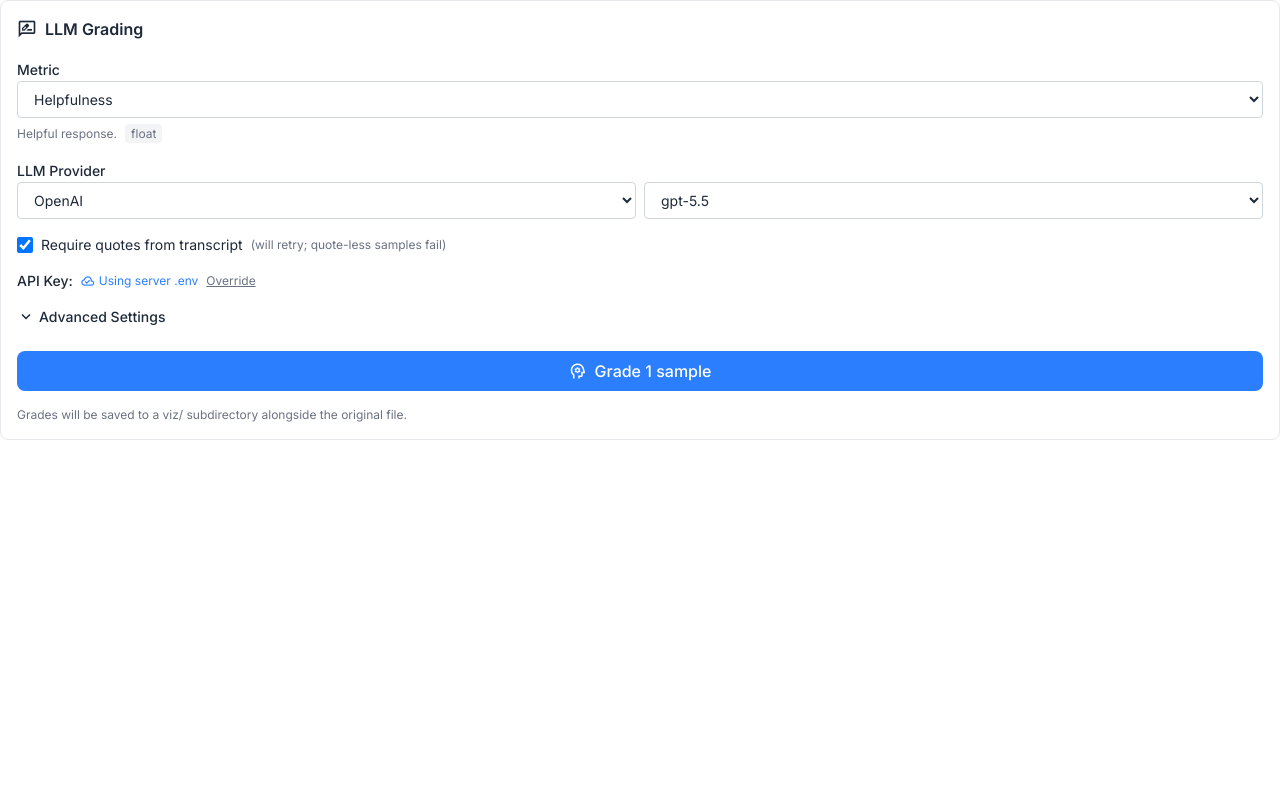
Test: GradingPanel › disables Grade and shows a hint while a new custom metric is missing name or prompt
This screenshot has width=1280, height=800.
Select "+ New Custom..." in the dropdown showing "Helpfulness" below "Metric": (640, 100) [17,81,1263,118]
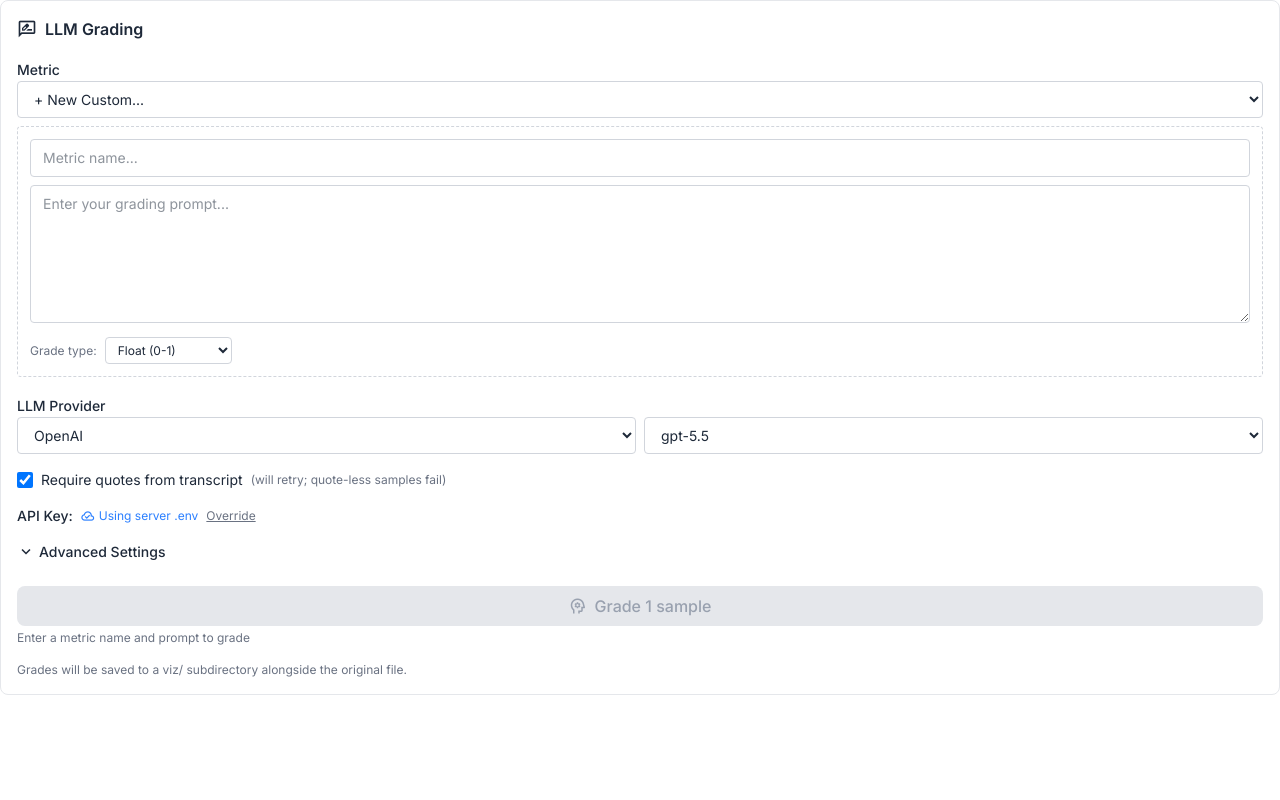
Check: the button "Grade 1 sample" is disabled, box [17,586,1263,626]
Check: the text "Enter a metric name and prompt to grade" is shown, box [17,630,250,645]
In the field with placeholder "Metric name...": (640, 158) [30,139,1250,177], type "My Metric"
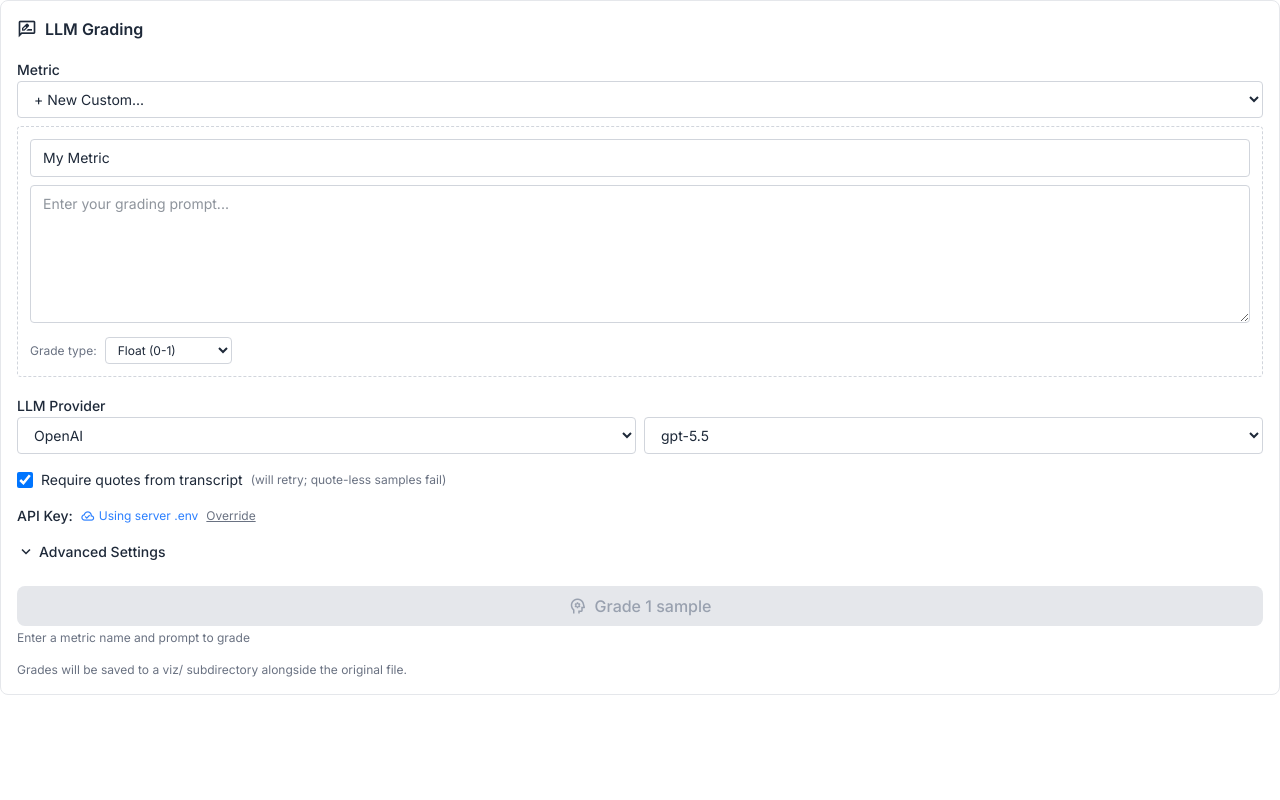
In the text box with placeholder "Enter your grading prompt...": (640, 254) [30,185,1250,323], type "Grade it."
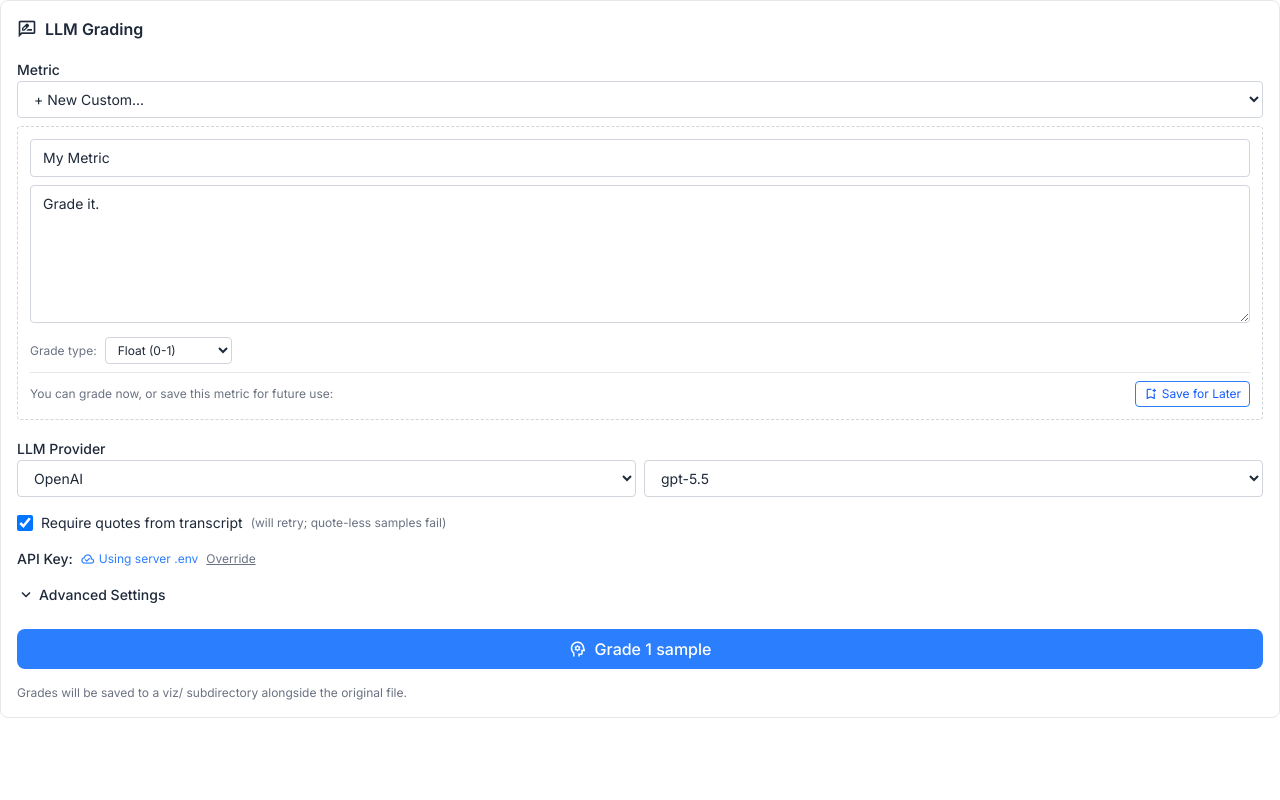
Check: the button "Grade 1 sample" is enabled, box [17,629,1263,669]
